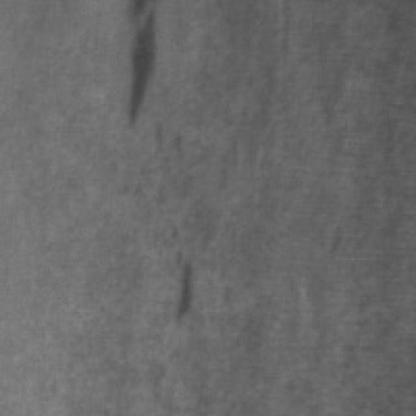inclusion: (112, 0, 158, 127), (162, 245, 204, 326)
